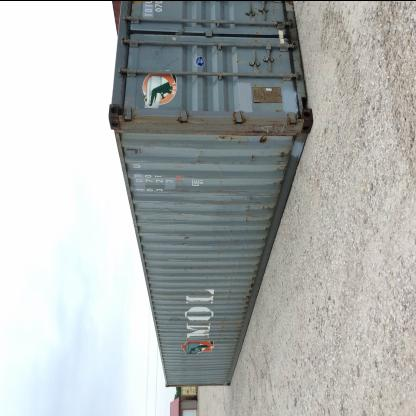Damage: (145, 185, 268, 224), (117, 111, 316, 133), (239, 272, 255, 318), (200, 265, 228, 287), (231, 314, 245, 356), (155, 252, 195, 263), (158, 231, 206, 240), (213, 322, 228, 350), (216, 154, 244, 169), (212, 227, 233, 245), (226, 268, 236, 304), (214, 134, 248, 144), (186, 314, 228, 322), (170, 366, 224, 372), (254, 91, 271, 109), (274, 149, 286, 173), (149, 240, 193, 246), (252, 245, 261, 273), (193, 144, 203, 168), (256, 134, 272, 146), (150, 45, 163, 59), (183, 298, 212, 304), (269, 3, 277, 23), (247, 152, 258, 164), (196, 328, 210, 336), (181, 264, 195, 272), (260, 225, 266, 242), (254, 80, 266, 88), (250, 36, 260, 44), (278, 50, 284, 60), (233, 57, 241, 64), (177, 314, 183, 322), (164, 267, 176, 271), (174, 52, 180, 60), (214, 50, 220, 57), (194, 49, 199, 57), (189, 290, 195, 296), (240, 242, 244, 250), (245, 224, 249, 232), (272, 178, 276, 186), (168, 316, 173, 322), (237, 259, 242, 265), (240, 252, 245, 258), (243, 236, 247, 240), (235, 25, 239, 29), (259, 26, 263, 29), (170, 379, 172, 384), (255, 31, 259, 33), (208, 39, 212, 41)
